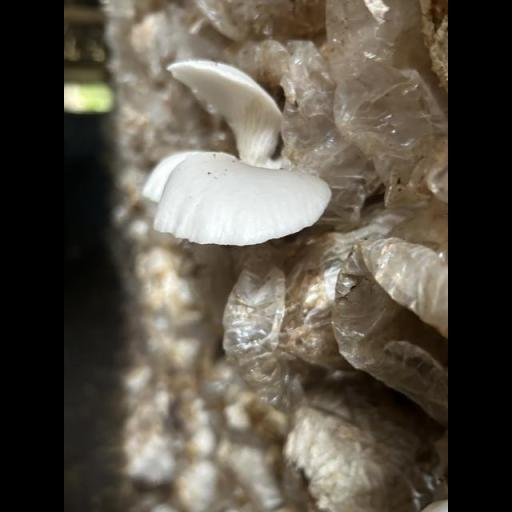White Oyster Mushroom: (99, 46, 341, 254)
